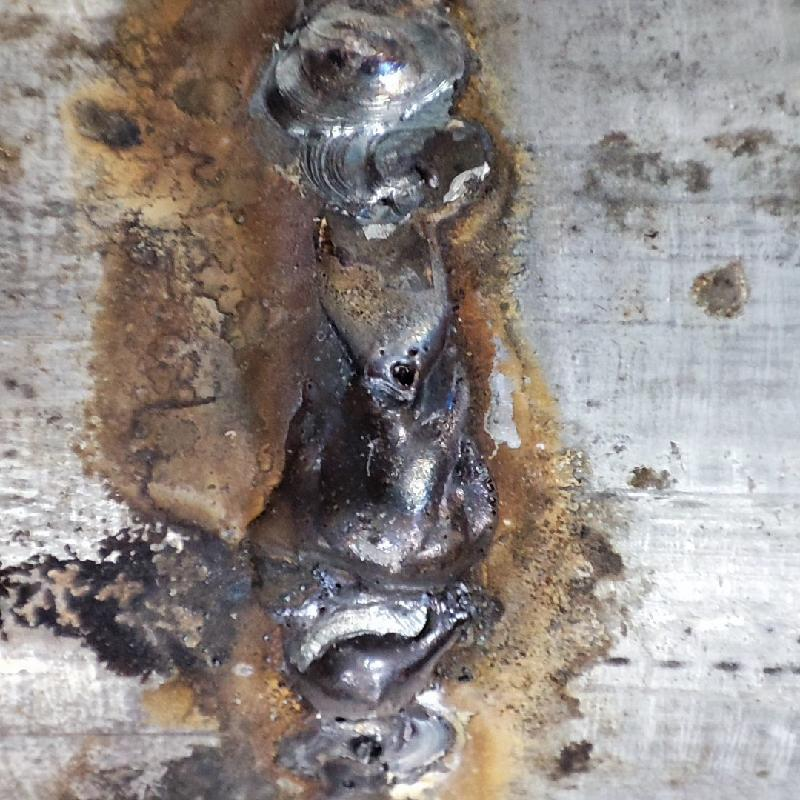Not_fully_soldered: (288, 117, 483, 405), (273, 730, 459, 799)
Surface_pores: (368, 337, 441, 398), (325, 704, 353, 735)
Weld: (261, 410, 492, 725)
